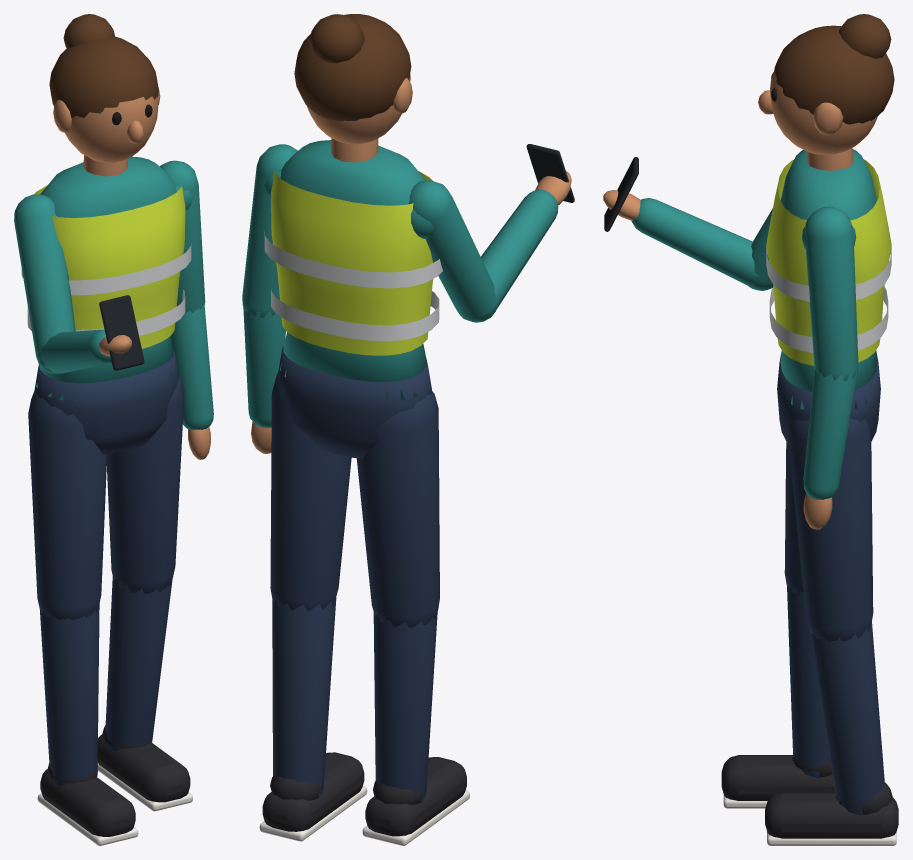
Rendered from guide.fbx.
3 views of the same model, side by side, from view 1: azimuth 30°, elevation 25°; view 2: azimuth 150°, elevation 25°; view 3: azimuth 270°, elevation 25° (orthographic). The views are drawn at different scales.
Parts seen in each view (by area): view 1: guide; view 2: guide; view 3: guide.
Part boxes in pixels (x1,y1,x2,y2): guide: (14,14,213,845); guide: (242,14,574,845); guide: (603,14,898,845).
Size of the model in its own units: 0.4962 by 1.79 by 0.5972.
